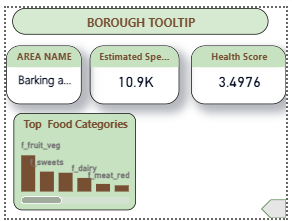

The dashboard page shown, as its layout file describes it:
{"tool":"powerbi","page":{"name":"Borough Tooltip","canvas":[320,240],"ordinal":2},"visuals":[{"type":"card","title":"AREA NAME","fields":{"Values":["Min(year_borough_grocery.Area Name)"]},"box":[0,42.5,86.2,67.5],"z":0},{"type":"card","title":"Estimated Spend(£)","fields":{"Values":["FruitSweetlookup.Estimated Spend"]},"box":[96.2,42.5,102.5,67.5],"z":1000},{"type":"card","title":"Health Score","fields":{"Values":["Avg(year_borough_grocery.Fruits_to_sweets_Weight)"]},"box":[211.2,42.5,108.8,67.5],"z":2000},{"type":"textbox","title":"BOROUGH TOOLTIP","box":[7.5,0,292.5,30],"z":3000},{"type":"clusteredColumnChart","title":"Top  Food Categories","fields":{"Category":["Food_Category.Food_Category"],"Y":["Sum(Food_Category.FC_Quantity)"]},"box":[8,120,140,111],"z":4000},{"type":"shape","box":[291,218,29,22],"z":5000}]}

Visuals, with their boxes in screenshot pixels (x1, y1, x2, y2), scaled from the page's 320x240 canvas onto the 292x221 screenshot:
"AREA NAME" card: [x1=0, y1=39, x2=79, y2=101]
"Estimated Spend(£)" card: [x1=88, y1=39, x2=181, y2=101]
"Health Score" card: [x1=193, y1=39, x2=291, y2=101]
"BOROUGH TOOLTIP" textbox: [x1=7, y1=0, x2=274, y2=28]
"Top  Food Categories" clusteredColumnChart: [x1=7, y1=110, x2=135, y2=213]
shape: [x1=266, y1=201, x2=291, y2=220]
